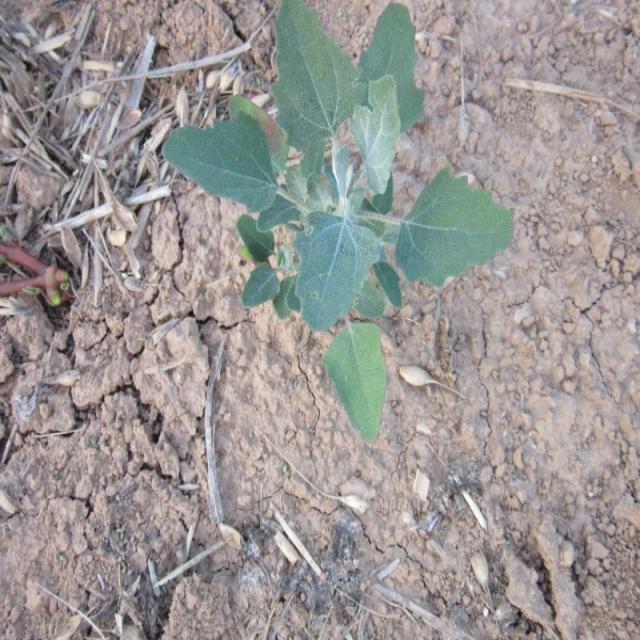ca: (164, 0, 518, 445)
